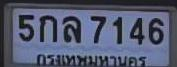1: (112, 16, 121, 43)
4: (129, 17, 143, 44)
5: (18, 14, 33, 41)
6: (148, 17, 163, 44)
7: (90, 15, 105, 43)
A01: (39, 14, 56, 41)
A36: (62, 15, 80, 42)
BKK: (35, 51, 149, 67)
